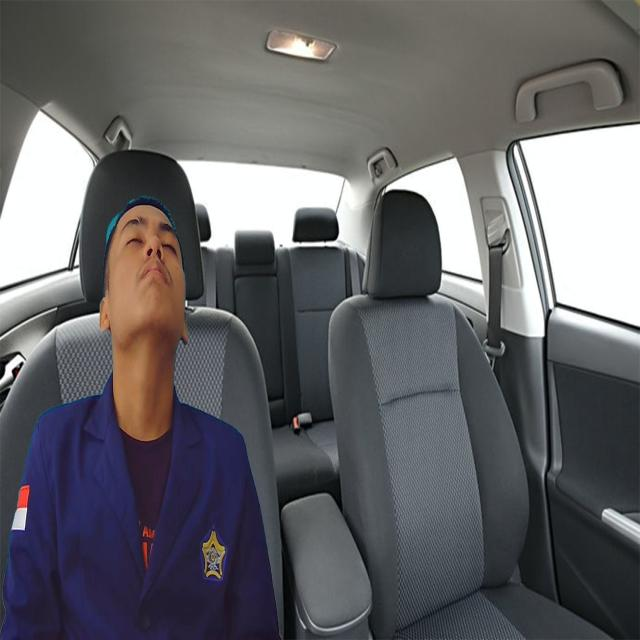no-seatbelt: (111, 191, 188, 360)
